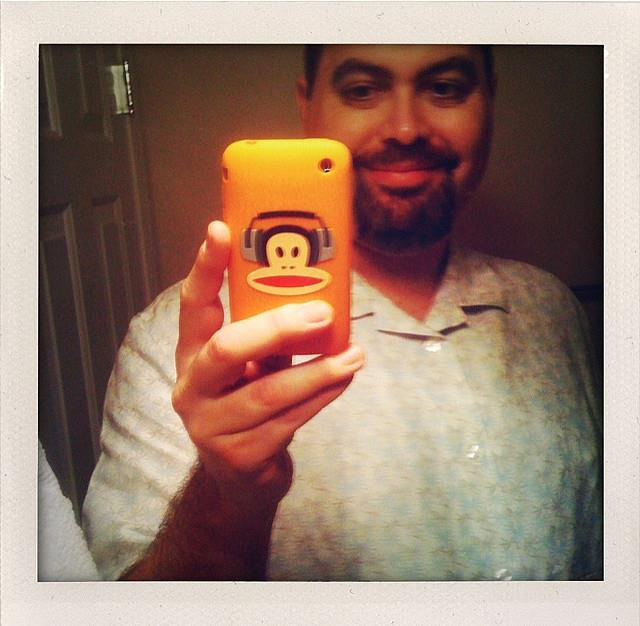Paul_Frank_Julius: (237, 220, 337, 296)
